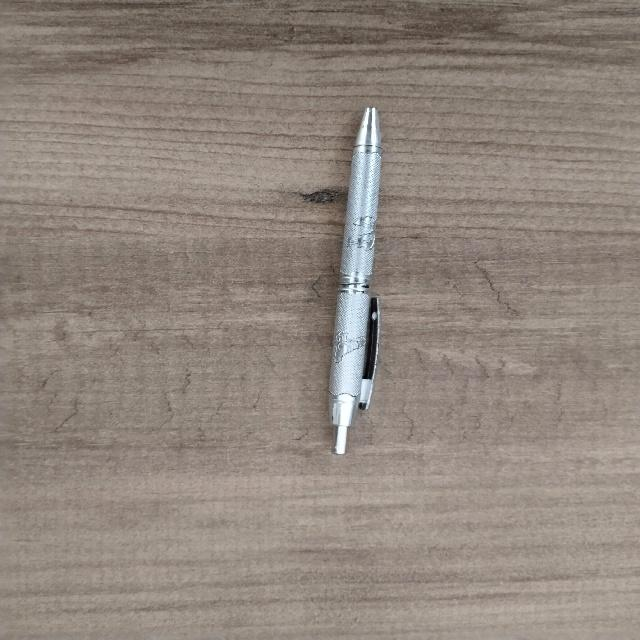signature pen: (330, 107, 380, 453)
